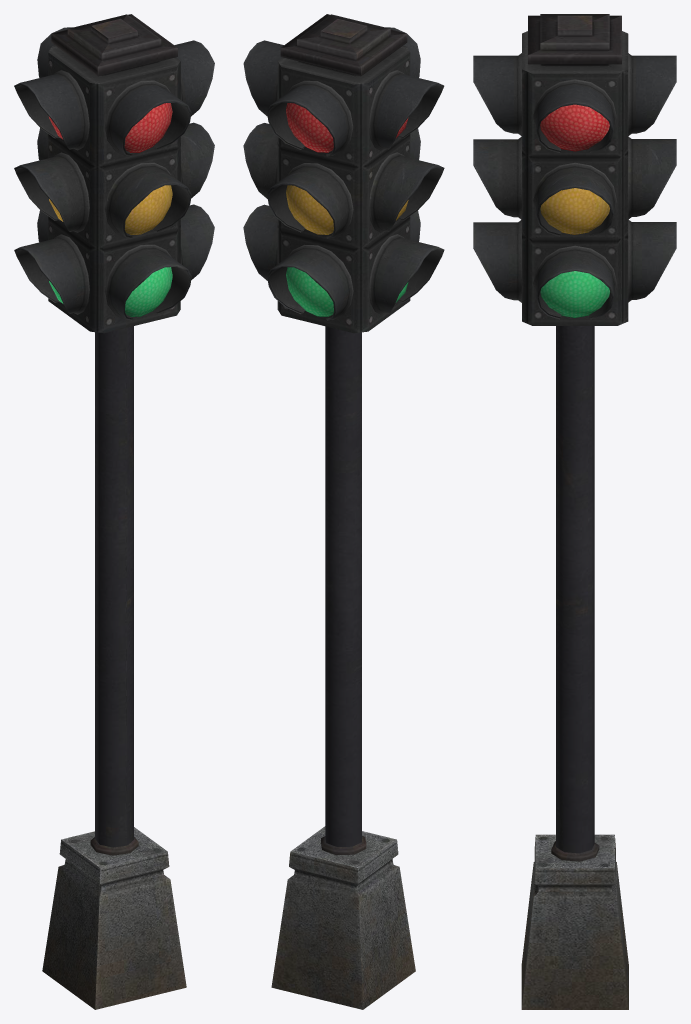
File: Traffic_Light_4.glb
The picture shows the model from 3 angles, left to right: view 1: azimuth 30°, elevation 25°; view 2: azimuth 150°, elevation 25°; view 3: azimuth 270°, elevation 25°; orthographic projection.
Parts seen in each view (by area): view 1: Traffic_Light_4__LOD4; view 2: Traffic_Light_4__LOD4; view 3: Traffic_Light_4__LOD4.
Part boxes in pixels (x1=…): Traffic_Light_4__LOD4: x1=14, y1=14, x2=214, y2=1009; Traffic_Light_4__LOD4: x1=243, y1=14, x2=444, y2=1009; Traffic_Light_4__LOD4: x1=473, y1=14, x2=676, y2=1009.
Size of the model in its own units: 0.5857 by 3.06 by 0.5857.
1 material, 1 textured.
